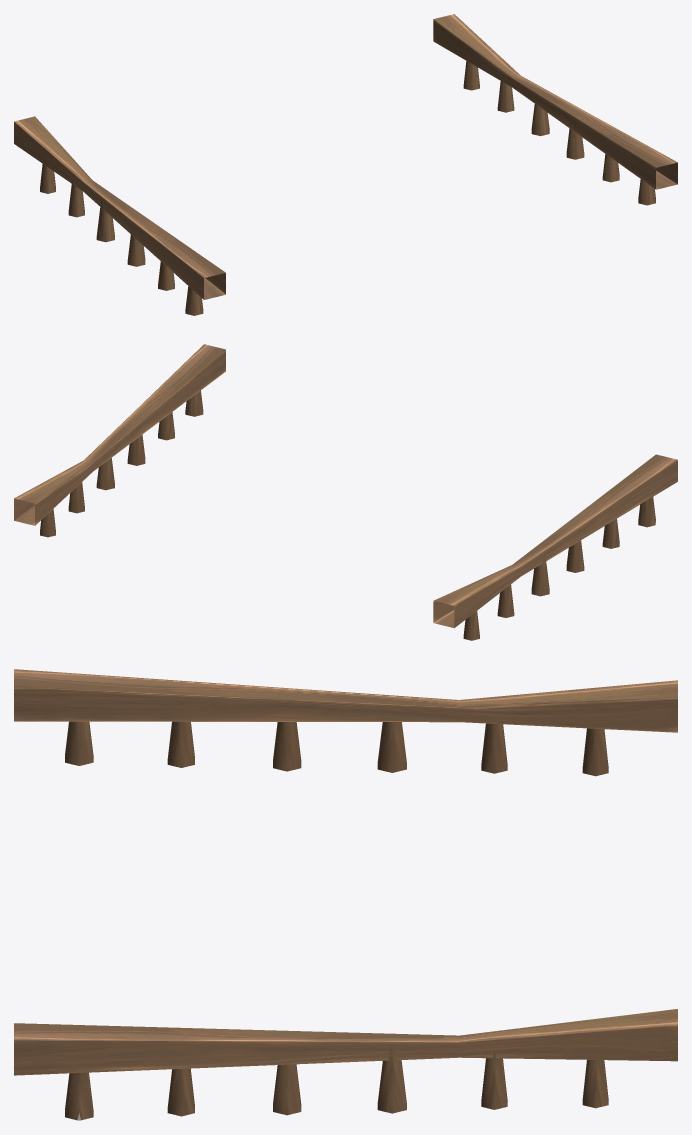
File: A_HA_GEN_Ship_Rails_Mid_01.fbx
3 renders of one model, top to bottom at view 1: azimuth 30°, elevation 25°; view 2: azimuth 150°, elevation 25°; view 3: azimuth 270°, elevation 25°, orthographic. The views are drawn at different scales.
Parts seen in each view (by area): view 1: A_HA_Gen_Ship_Rails_Mid_01; view 2: A_HA_Gen_Ship_Rails_Mid_01; view 3: A_HA_Gen_Ship_Rails_Mid_01.
Part boxes in pixels (left/top/right/bottom): A_HA_Gen_Ship_Rails_Mid_01: left=14, top=14, right=677, bottom=315; A_HA_Gen_Ship_Rails_Mid_01: left=14, top=344, right=677, bottom=640; A_HA_Gen_Ship_Rails_Mid_01: left=14, top=669, right=677, bottom=1120.
Size of the model in its own units: 970 by 102 by 734.
1 material, 1 textured.
